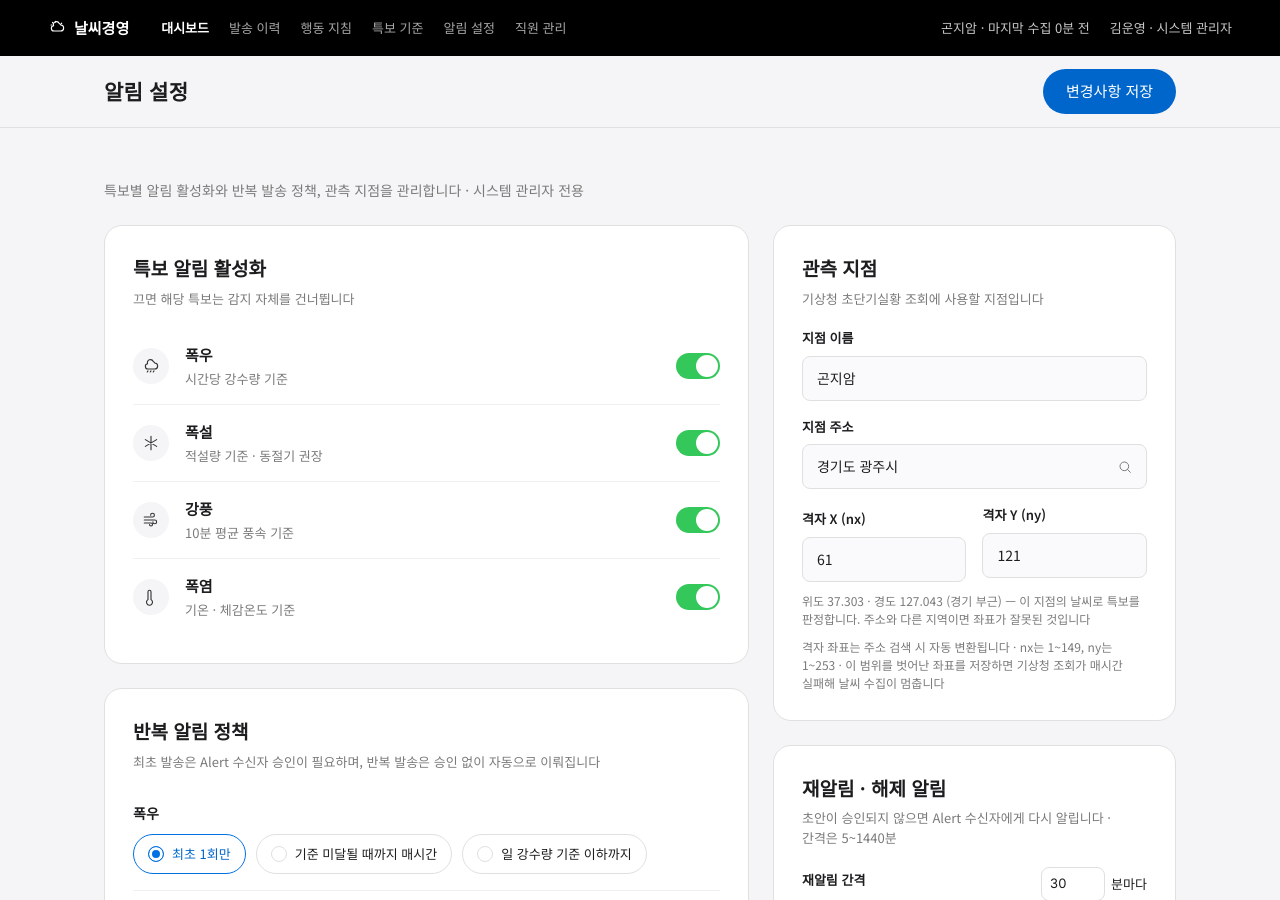
it: Settings 관측 지점·재알림 값 검증 (W-10 · W-30) › 입력칸을 비워 0이 된 좌표도 막는다
This screenshot has width=1280, height=900.
Expected: the heading "관측 지점" is shown, [802,254,877,281]
Clear the number field labelled "격자 X (nx)": [884, 559] box [802,536,966,582]
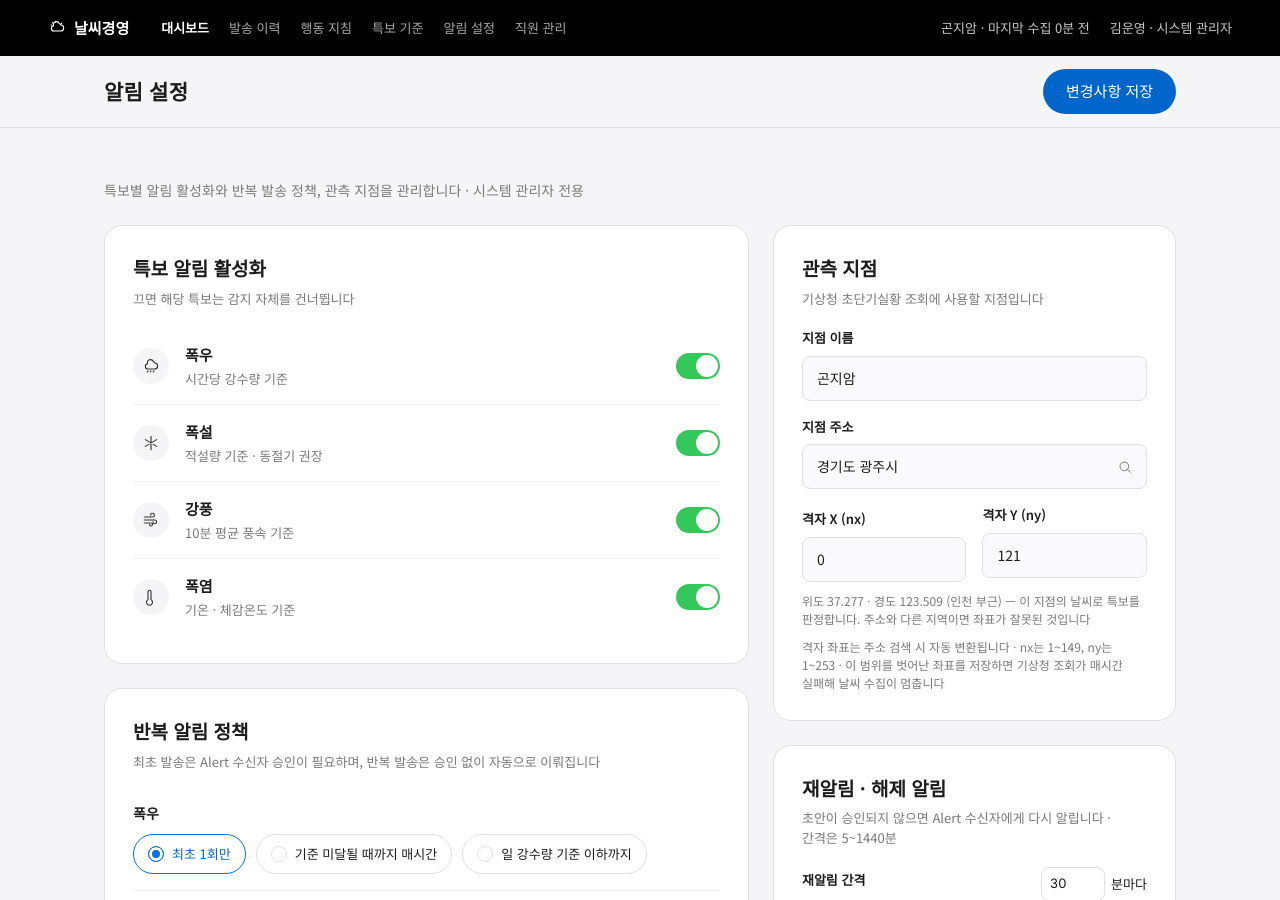
Click the button "변경사항 저장": [1110, 92] box [1043,69,1176,114]
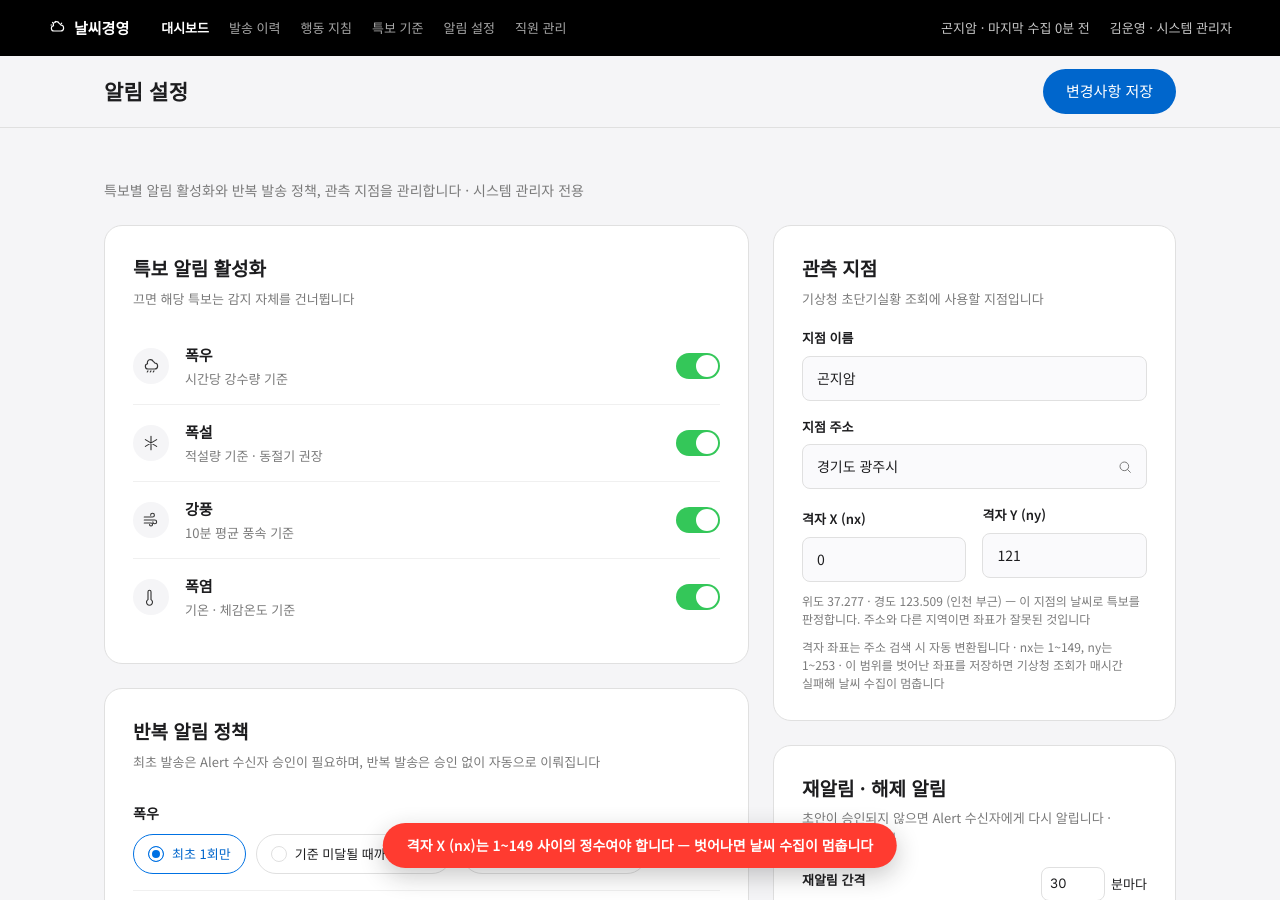
Now the text "격자 X (nx)는 1~149 사이의 정수여야 합니다 — 벗어나면 날씨 수집이 멈춥니다" is shown, box [383,823,897,868]
